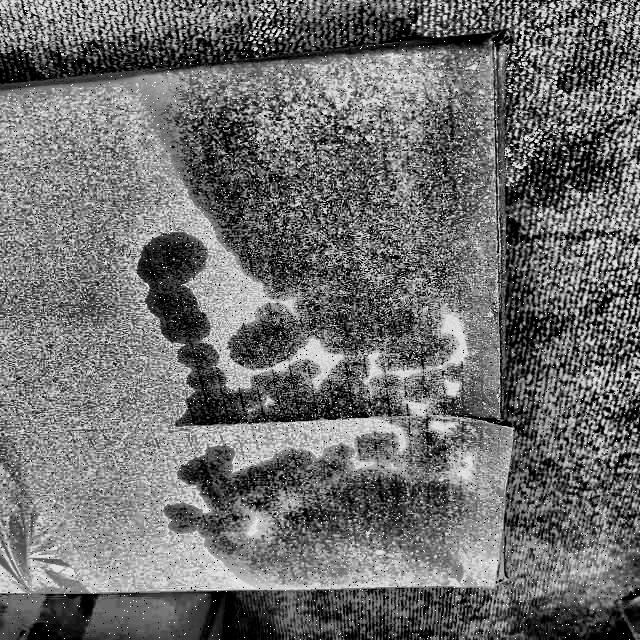box: (0, 31, 517, 597)
wet: (160, 62, 513, 592)
